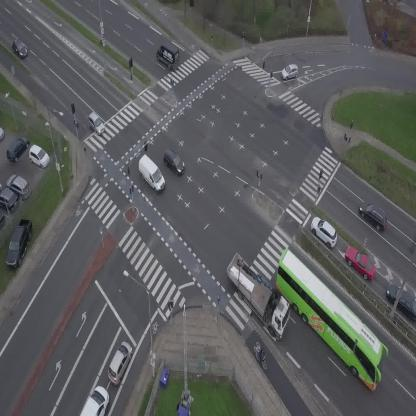bicycle: (254, 347, 269, 371)
bus: (257, 248, 402, 394)
car: (340, 241, 382, 284), (103, 339, 137, 386), (353, 196, 394, 233), (305, 213, 343, 250), (80, 383, 115, 416), (159, 148, 189, 177), (83, 111, 109, 137), (8, 38, 29, 60), (279, 63, 300, 81)
lorry: (215, 248, 303, 343), (131, 153, 171, 194), (152, 40, 187, 75)
